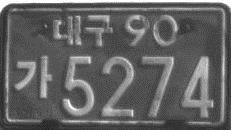0: (150, 13, 179, 50)
2: (99, 54, 136, 118)
4: (178, 54, 214, 119)
5: (61, 54, 95, 118)
7: (139, 54, 176, 120)
9: (122, 11, 151, 49)
가: (12, 53, 53, 100)
대구_O: (50, 11, 114, 47)
